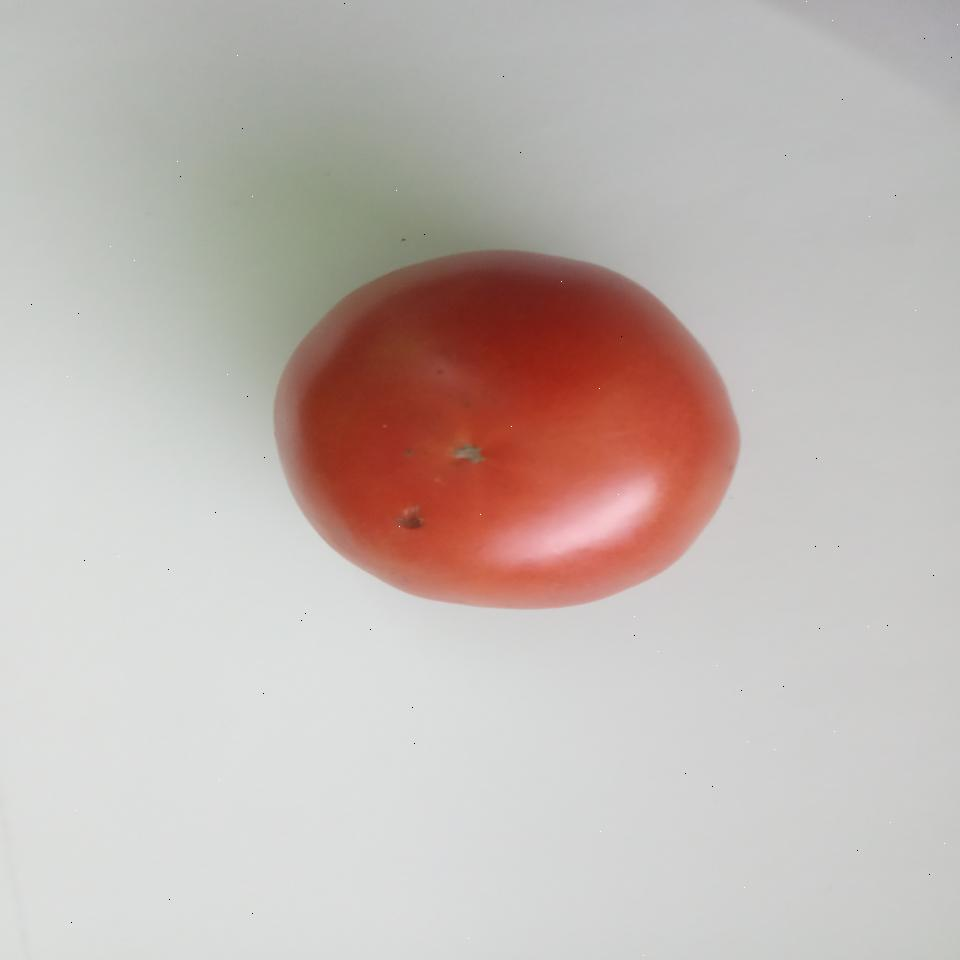Healthy: (244, 233, 756, 632)
